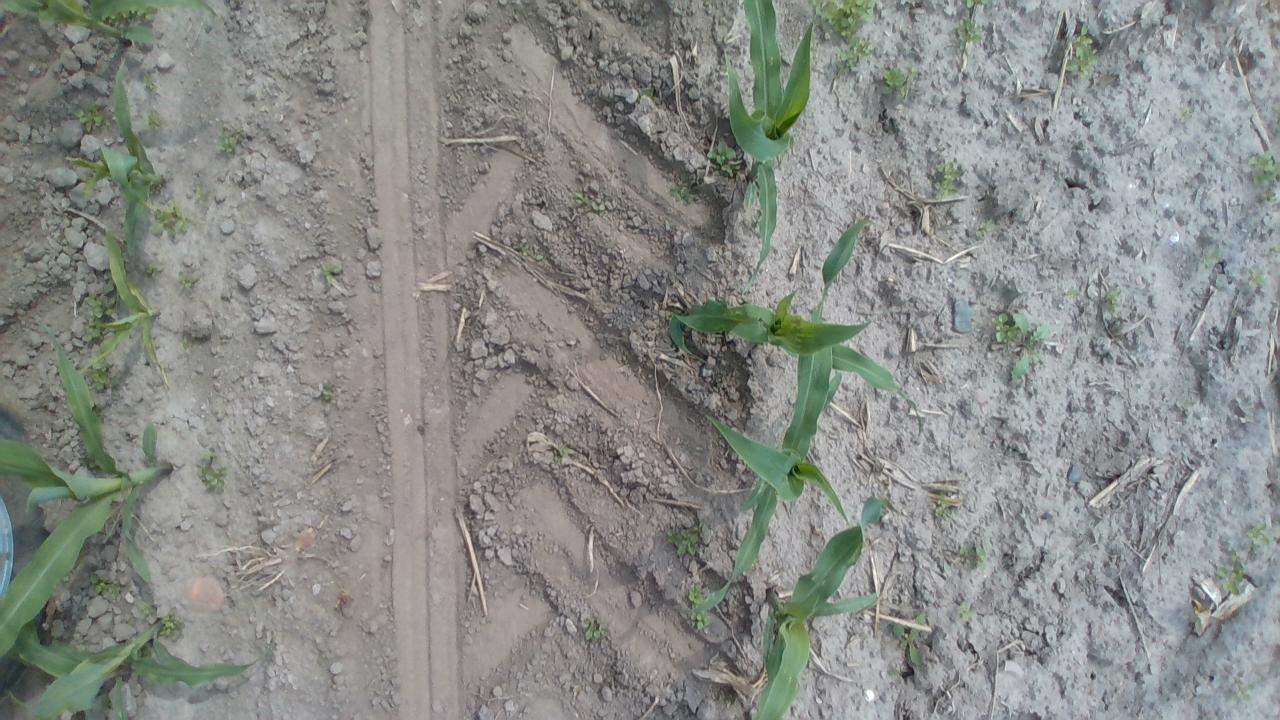Maize: (664, 213, 880, 616), (667, 213, 925, 448), (0, 314, 174, 662), (750, 492, 902, 720), (0, 601, 278, 720), (727, 0, 815, 297), (66, 56, 168, 264), (64, 232, 174, 397), (0, 0, 222, 49)
Weeds: (994, 310, 1052, 382), (813, 0, 879, 40), (891, 614, 931, 668), (1066, 21, 1101, 80), (80, 288, 116, 340), (151, 198, 192, 238), (1214, 552, 1250, 597), (72, 152, 106, 198), (197, 448, 229, 494), (132, 165, 164, 210), (664, 524, 706, 558), (709, 135, 742, 176), (932, 160, 964, 202), (1248, 150, 1276, 198), (880, 66, 917, 100), (74, 100, 112, 132), (838, 40, 874, 72), (954, 14, 984, 52), (88, 358, 120, 392), (671, 171, 703, 205), (102, 9, 156, 29), (87, 574, 128, 600), (213, 126, 245, 158), (956, 542, 990, 570), (1245, 518, 1274, 550), (157, 611, 185, 643), (574, 190, 605, 216), (582, 616, 608, 642), (319, 261, 343, 287), (686, 581, 706, 610), (1102, 286, 1122, 315), (931, 494, 954, 519), (550, 441, 572, 467), (1198, 248, 1221, 272), (514, 239, 540, 260), (972, 219, 997, 240), (1246, 268, 1267, 290), (144, 108, 164, 130), (691, 612, 713, 632), (192, 184, 212, 206), (177, 271, 196, 294), (1232, 683, 1254, 702), (320, 381, 338, 403), (958, 600, 974, 624), (138, 600, 156, 619), (1179, 106, 1196, 124), (640, 86, 658, 102), (146, 262, 164, 278), (1065, 286, 1081, 302), (140, 76, 156, 90), (889, 668, 904, 682), (963, 0, 984, 8)
